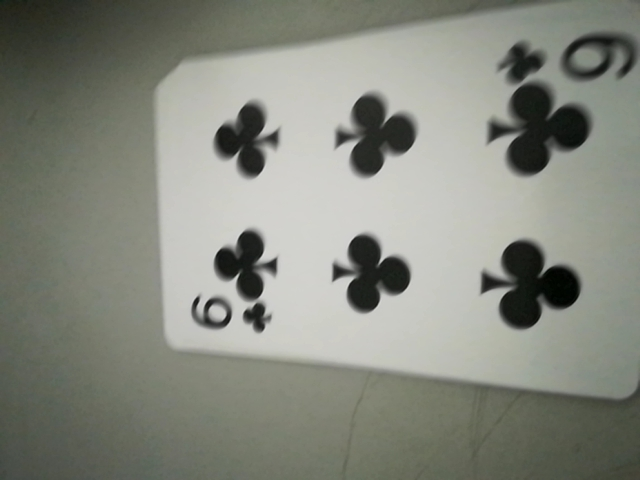mh 6: (189, 291, 275, 341)
